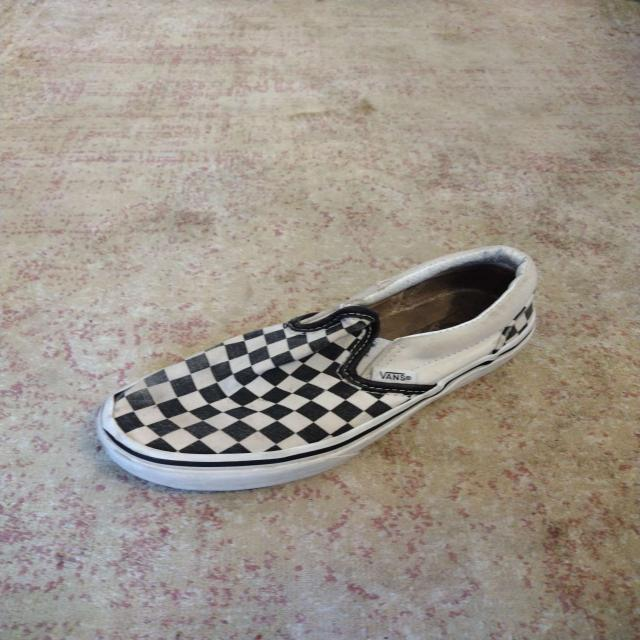shoes: (92, 244, 538, 494)
